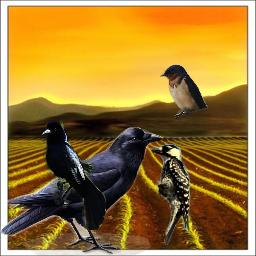Crow: (0, 127, 163, 256), (41, 120, 106, 230)
Swallow: (160, 64, 208, 119)
Woodpecker: (149, 144, 192, 246)
